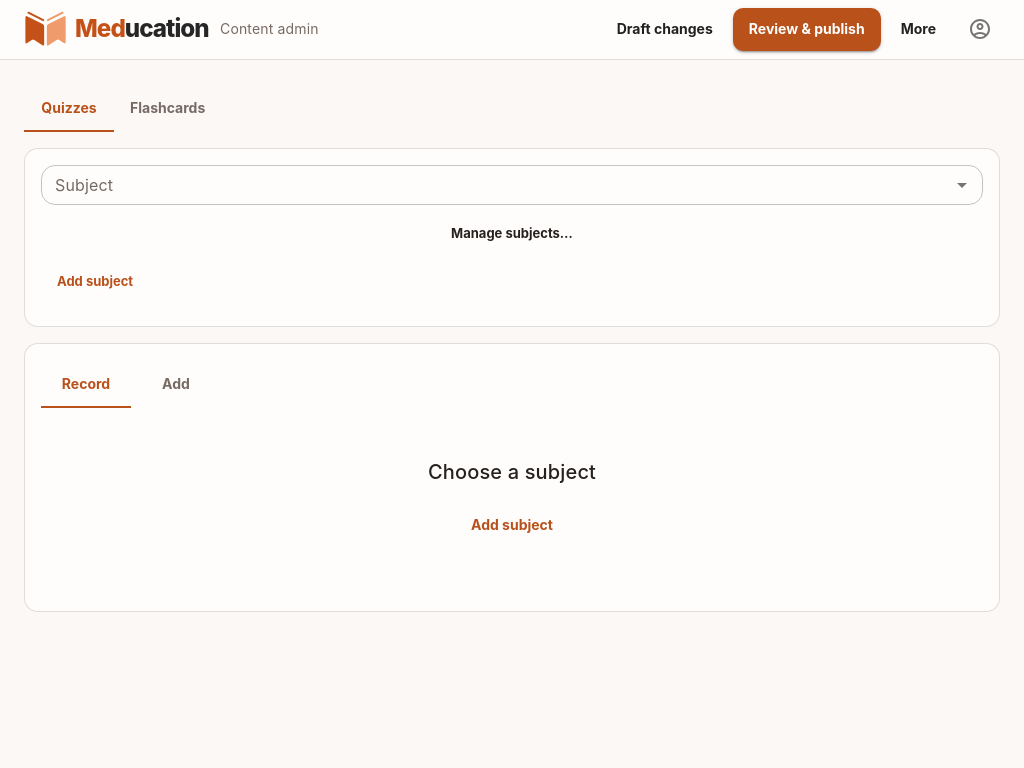
it: publishes the draft after one confirmation and reports it
This screenshot has width=1024, height=768.
Expected: the tab "Quizzes" is shown, [24,84,114,132]
Expected: the button with aria-label "Workspace status: Draft changes" is shown, [601,8,729,50]
Click the button "Review & publish" at (807, 29), box [733,8,881,50]
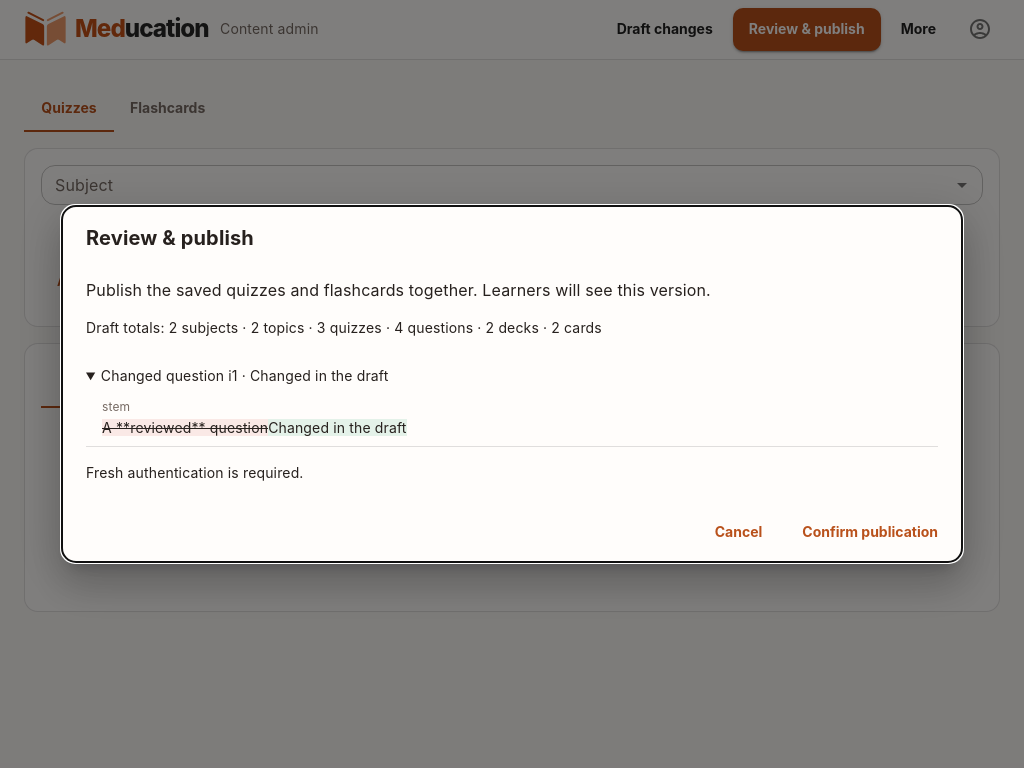
Result: the text labelled "Draft totals" shows "2 subjects · 2 topics · 3 quizzes · 4 questions" at [169,319,602,336]
Result: the text "Changed in the draft" is shown at [268,419,407,436]
Result: the text "A **reviewed** question" is shown at [102,419,268,436]
Click the button "Confirm publication" at (870, 533), box [786,511,954,554]
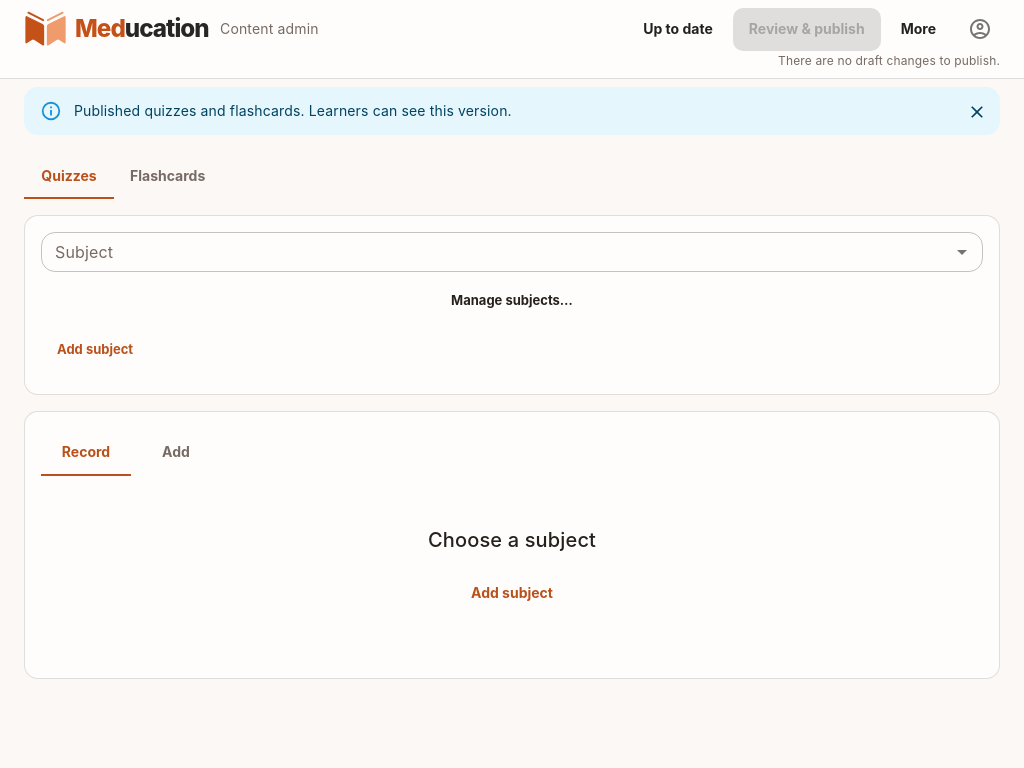
Result: the text "Published quizzes and flashcards" is shown at [74,102,512,119]
Result: the button with aria-label "Workspace status: Up to date" is shown at [627,8,729,50]
Result: the button "Review & publish" is disabled at [733,8,881,50]
